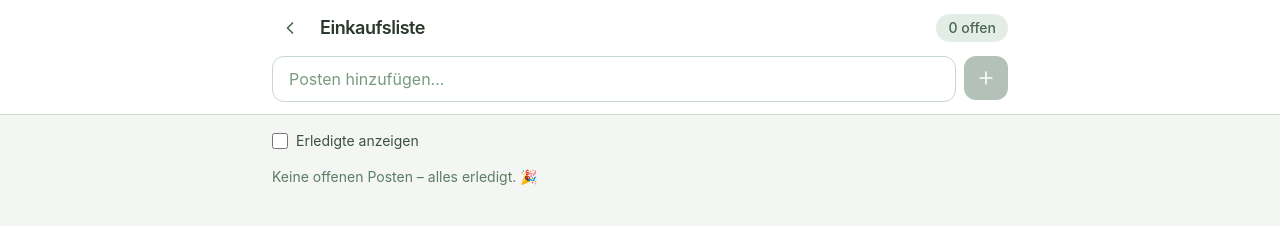
Test case: Einkaufsliste-Detailseite › adding an item shows it immediately and updates the pill
The image size is (1280, 226).
Type "Käse" into the field labelled "Posten hinzufügen…" at (614, 79), box top-left (272, 56), bottom-right (956, 102)
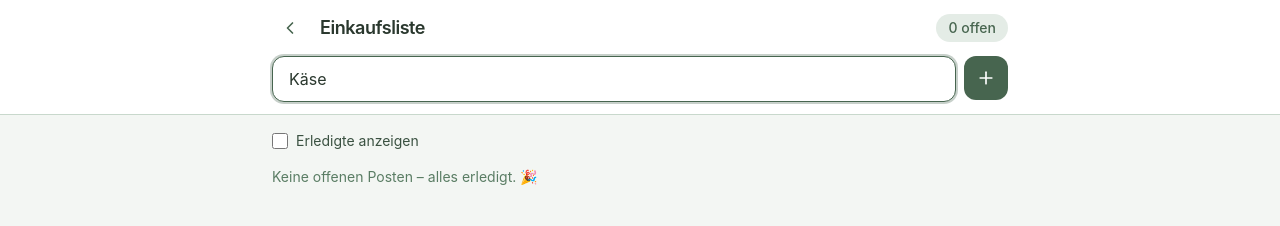
Click the button named "Hinzufügen" at (986, 78), box top-left (964, 56), bottom-right (1008, 100)
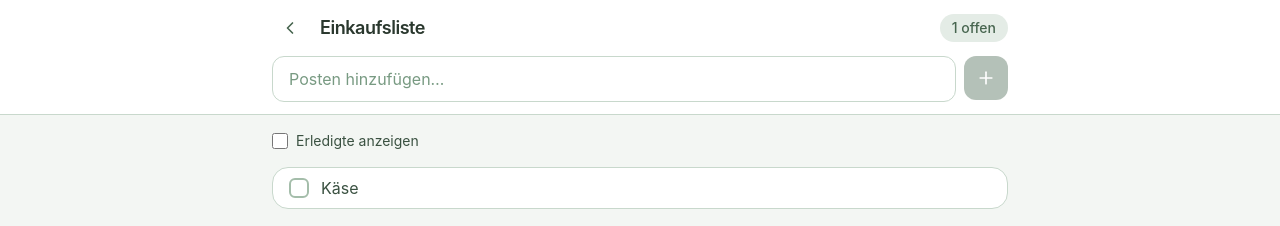
Now the button "Käse" is shown, box top-left (321, 176), bottom-right (991, 200)
Now the text "1 offen" is shown, box top-left (940, 14), bottom-right (1008, 42)
Now the field labelled "Posten hinzufügen…" is empty, box top-left (272, 56), bottom-right (956, 102)
